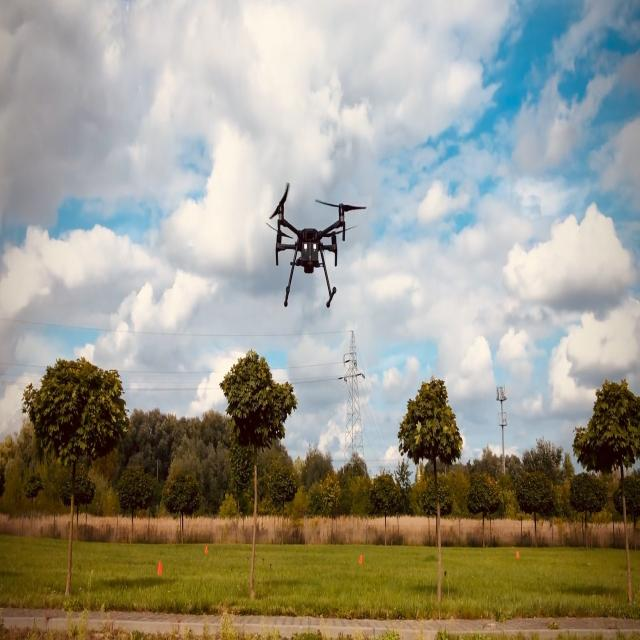drone: (266, 181, 366, 308)
